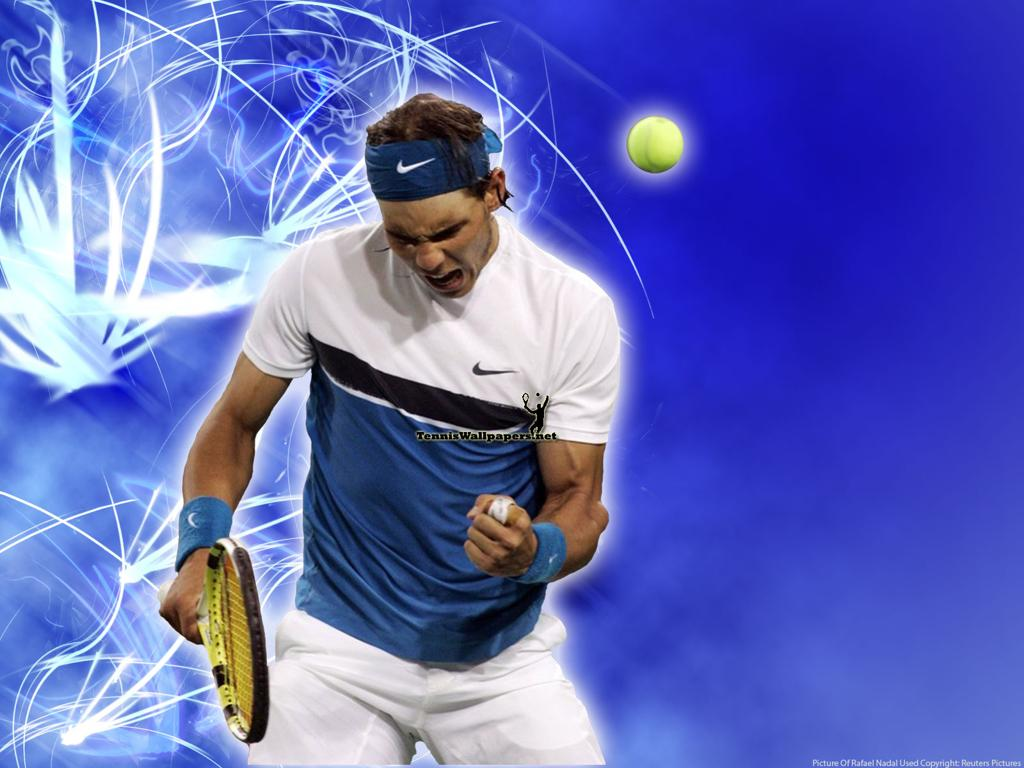face: (382, 190, 486, 294)
